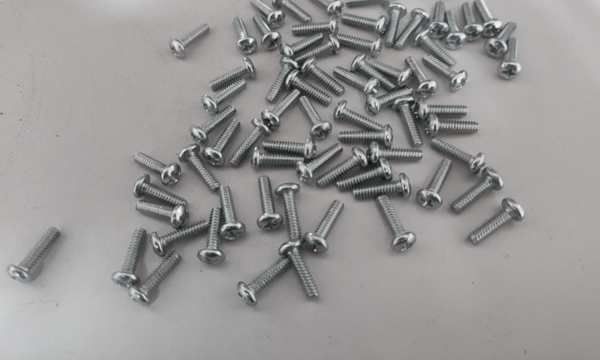shortscrew: (129, 251, 182, 307), (7, 227, 59, 284), (467, 198, 525, 246), (278, 239, 321, 302), (238, 257, 292, 306), (451, 167, 505, 215), (376, 196, 417, 253), (431, 137, 487, 176), (304, 200, 345, 253), (178, 144, 221, 194), (229, 118, 272, 168), (151, 221, 209, 258), (112, 228, 147, 289), (317, 147, 369, 188), (415, 159, 453, 211), (190, 105, 238, 146), (203, 119, 241, 169), (300, 56, 346, 97), (337, 158, 393, 191), (201, 77, 249, 115), (284, 69, 333, 106), (422, 53, 468, 92), (134, 175, 188, 208), (414, 28, 458, 68), (352, 53, 398, 91), (335, 100, 387, 133), (209, 57, 258, 92), (262, 89, 302, 131), (133, 153, 182, 187), (392, 96, 424, 148), (134, 200, 189, 230), (394, 8, 431, 52), (363, 56, 413, 88), (265, 57, 299, 104), (353, 173, 412, 200), (218, 185, 246, 241), (198, 208, 225, 266), (275, 183, 302, 241), (299, 95, 333, 141), (405, 55, 439, 98), (333, 66, 381, 96), (258, 176, 284, 231), (170, 25, 210, 60), (365, 87, 415, 115), (368, 141, 424, 165), (294, 34, 341, 62), (425, 114, 480, 137), (484, 21, 518, 58), (337, 125, 394, 147), (280, 33, 325, 60), (473, 0, 503, 39), (338, 34, 384, 59), (342, 13, 389, 36), (253, 15, 282, 52), (272, 0, 313, 26), (498, 37, 522, 81), (384, 4, 408, 48), (251, 0, 285, 30), (233, 16, 258, 56), (445, 8, 467, 51), (461, 2, 484, 41), (428, 1, 450, 39), (306, 0, 344, 19), (345, 0, 392, 9)
